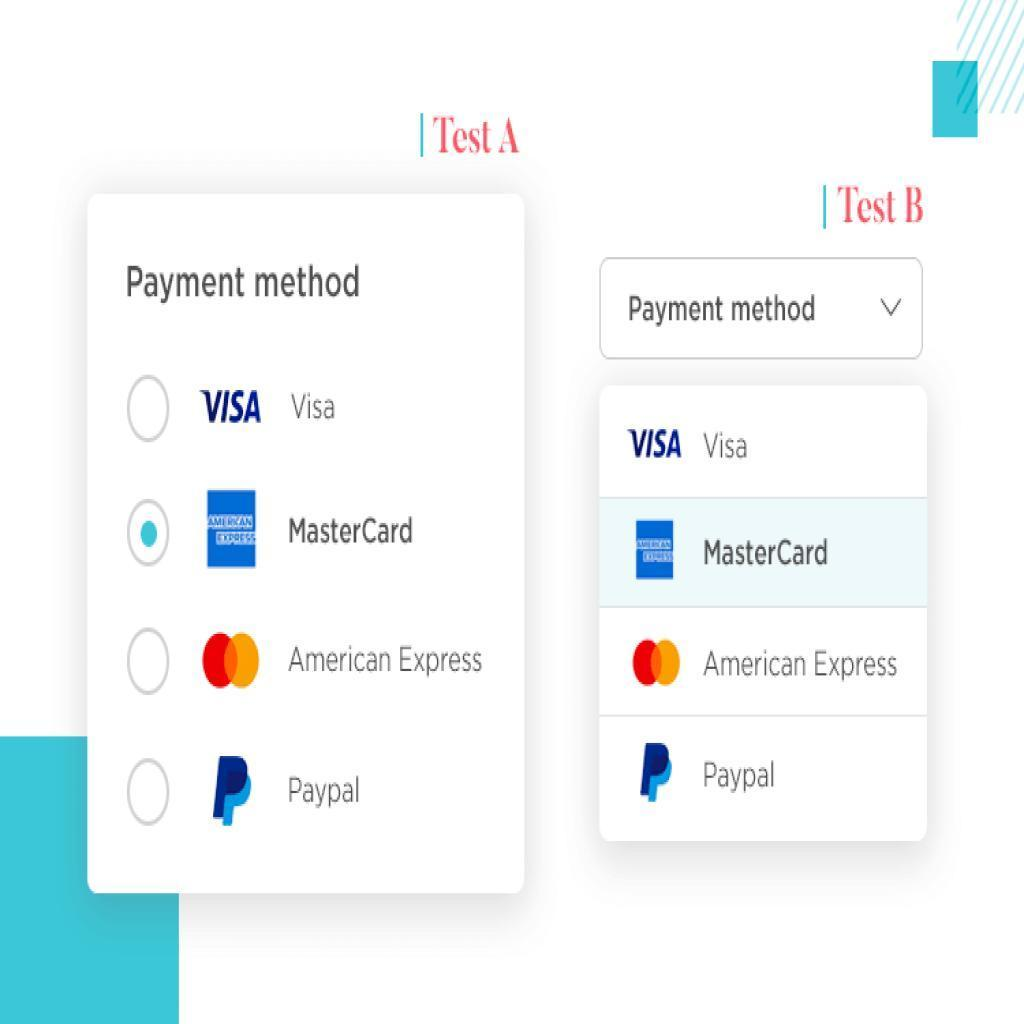dropdown: (603, 262, 925, 358)
radio: (123, 749, 178, 838), (123, 366, 179, 452), (123, 618, 177, 707), (125, 488, 174, 574)
